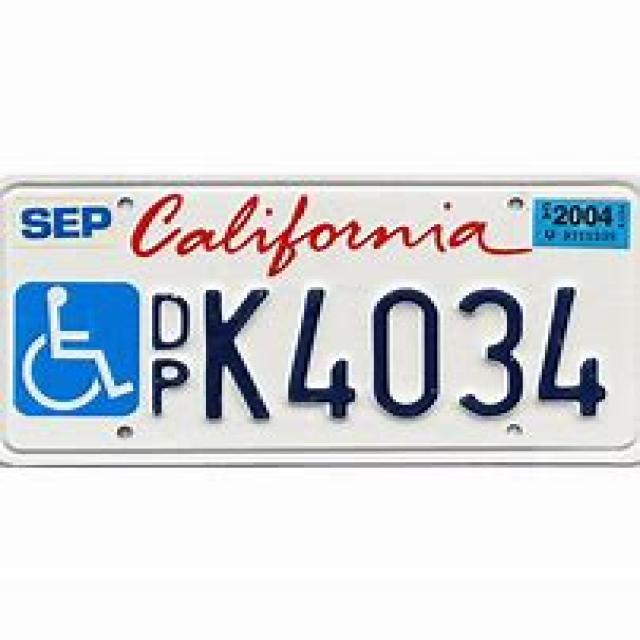symbol_of_access: (21, 286, 133, 414)
